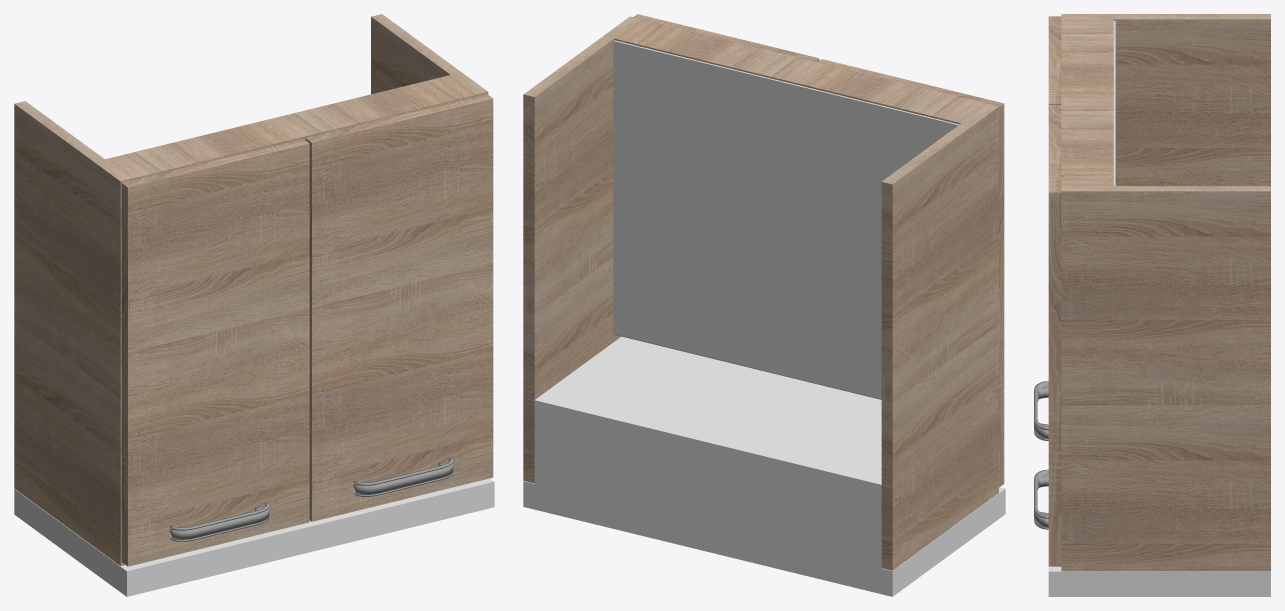
File: pec_50_60.glb
3 renders of one model, left to right at view 1: azimuth 30°, elevation 25°; view 2: azimuth 150°, elevation 25°; view 3: azimuth 270°, elevation 25°, orthographic.
Parts seen in each view (by area): view 1: pec_50_60_ajto_1, pec_50_60_ajto_2, pec_50_60_korpusz, pec_50_60_elszivo, pec_50_60_fogo_2, pec_50_60_fogo_1; view 2: pec_50_60_korpusz, pec_50_60_elszivo, pec_50_60_ajto_1, pec_50_60_ajto_2; view 3: pec_50_60_korpusz, pec_50_60_ajto_2, pec_50_60_elszivo, pec_50_60_ajto_1, pec_50_60_fogo_2, pec_50_60_fogo_1.
Boxes of the visible parts, box(x1,y1,x2,y2) form: pec_50_60_ajto_1: box(121, 139, 309, 566); pec_50_60_ajto_2: box(305, 94, 493, 521); pec_50_60_korpusz: box(14, 14, 488, 565); pec_50_60_elszivo: box(14, 478, 494, 596); pec_50_60_fogo_2: box(353, 457, 453, 496); pec_50_60_fogo_1: box(170, 502, 269, 541); pec_50_60_korpusz: box(523, 16, 998, 570); pec_50_60_elszivo: box(523, 336, 1005, 596); pec_50_60_ajto_1: box(818, 59, 1004, 487); pec_50_60_ajto_2: box(633, 14, 819, 62); pec_50_60_korpusz: box(1061, 14, 1270, 571); pec_50_60_ajto_2: box(1048, 105, 1061, 566); pec_50_60_elszivo: box(1048, 566, 1270, 596); pec_50_60_ajto_1: box(1048, 16, 1061, 104); pec_50_60_fogo_2: box(1034, 469, 1048, 529); pec_50_60_fogo_1: box(1034, 381, 1048, 440).
Size of the model in its own units: 0.6 by 0.6407 by 0.3388.
Materials: 5 (3 with a texture image).
